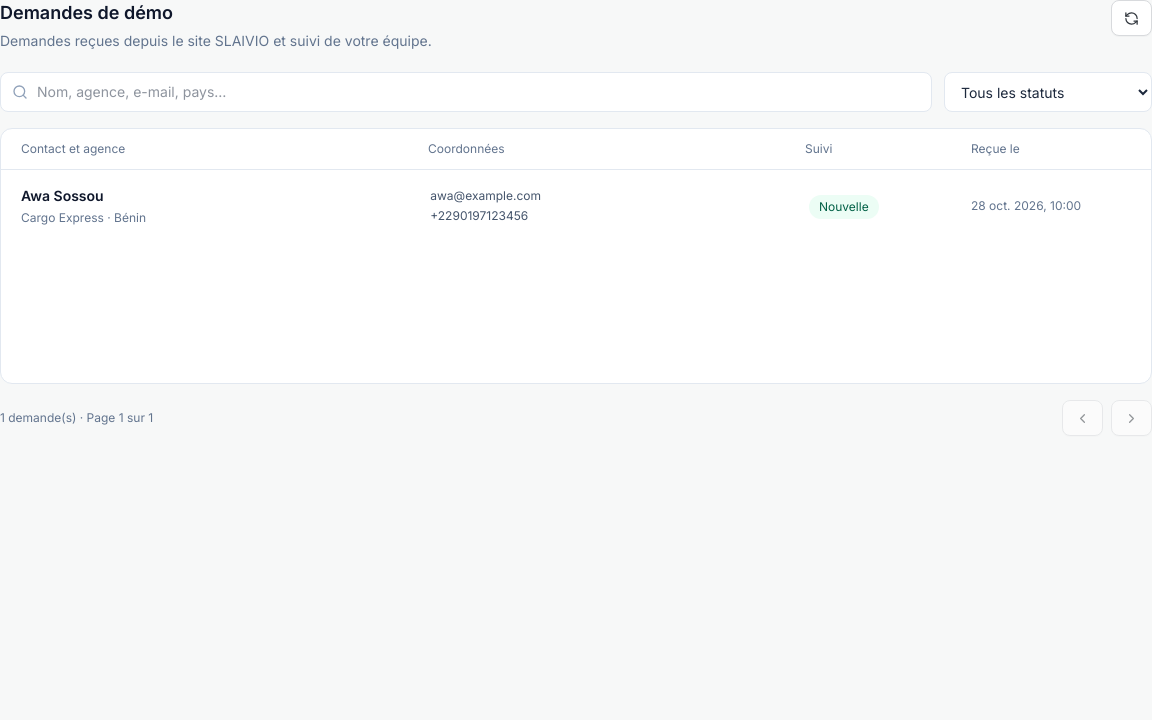
Test: shows filters, opens a real request and saves the exact timestamp and note
The width and height of the screenshot is (1152, 720).
Click the button with aria-label "Ouvrir la demande de Awa Sossou" at (62, 196), box x1=1 y1=170 x2=1151 y2=242
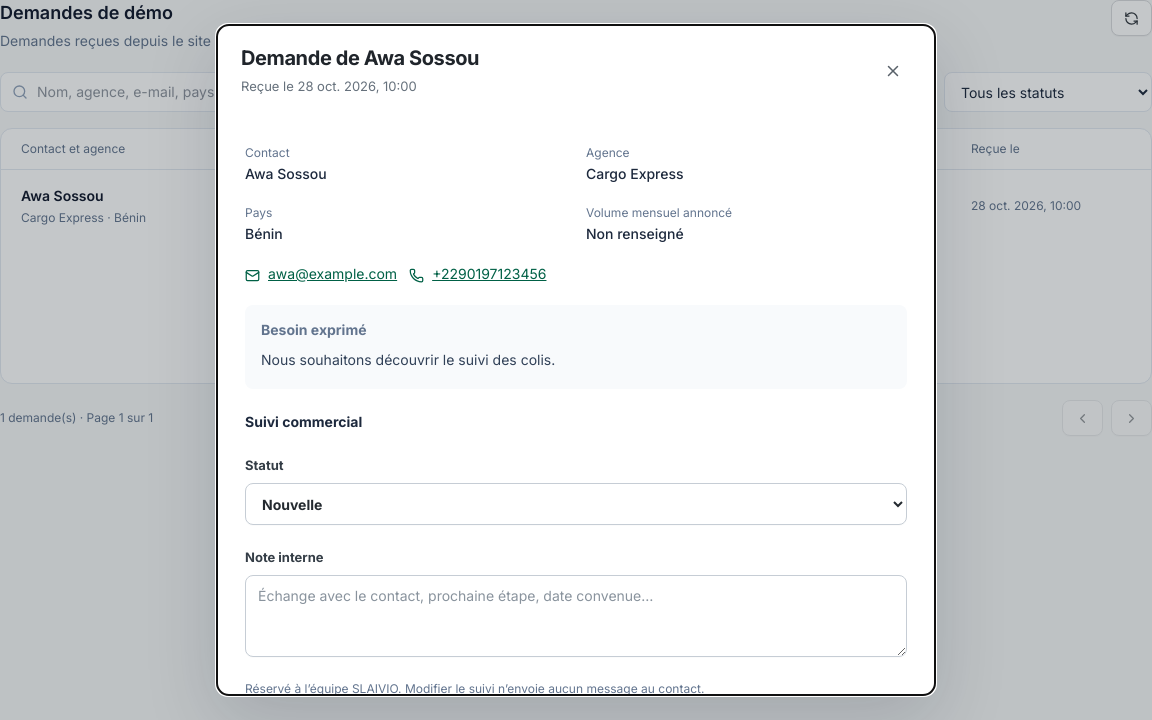
Now the dialog "Demande de Awa Sossou" shows "Nous souhaitons découvrir le suivi des colis.", box x1=261 y1=352 x2=555 y2=369
Select "Contactée" in the dropdown labelled "Statut" at (576, 504), box x1=245 y1=483 x2=907 y2=525
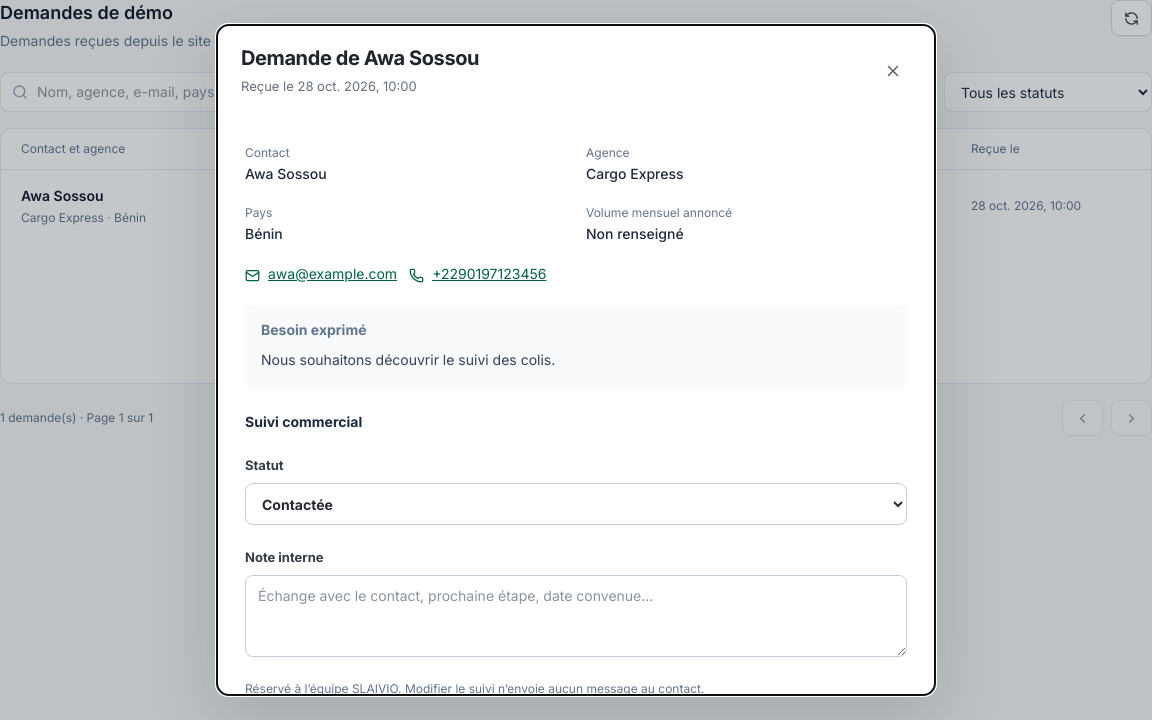
Type " Appel effectué, démonstration demain. " into the text box labelled "Note interne" at (576, 616), box x1=245 y1=575 x2=907 y2=657
(page scrolled)
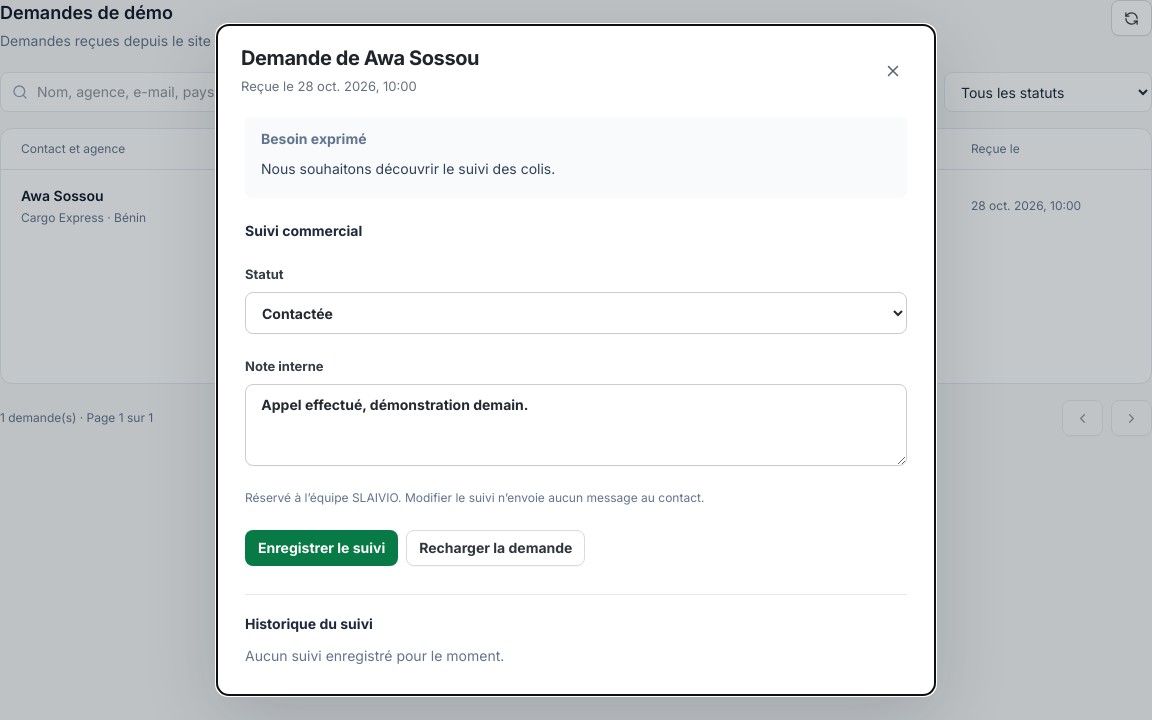
Click the button "Enregistrer le suivi" at (322, 548), box x1=245 y1=530 x2=398 y2=566
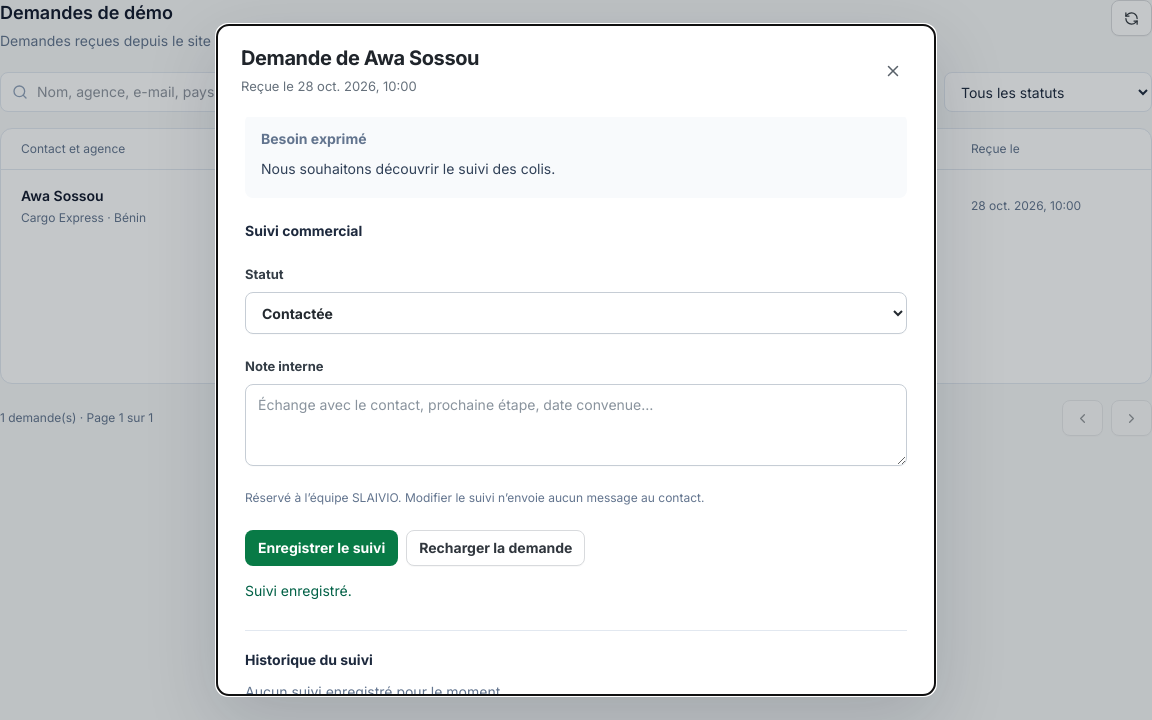
Now the message reads "Suivi enregistré.", box x1=245 y1=583 x2=352 y2=600
